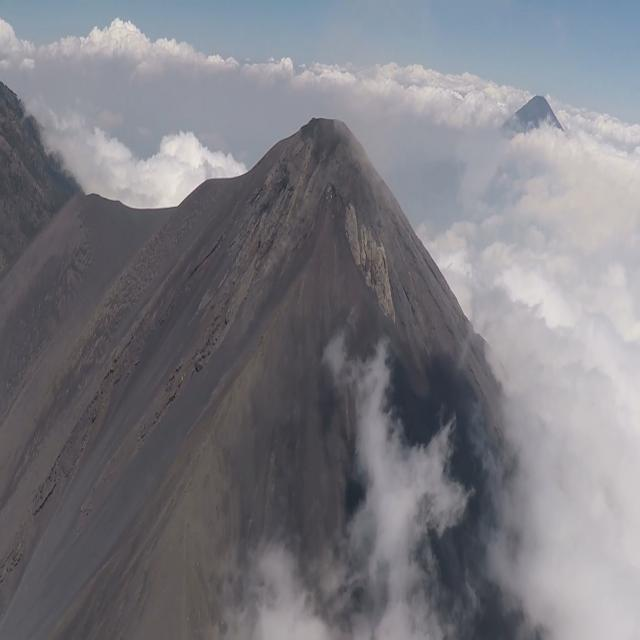Summit: (170, 81, 487, 353)
